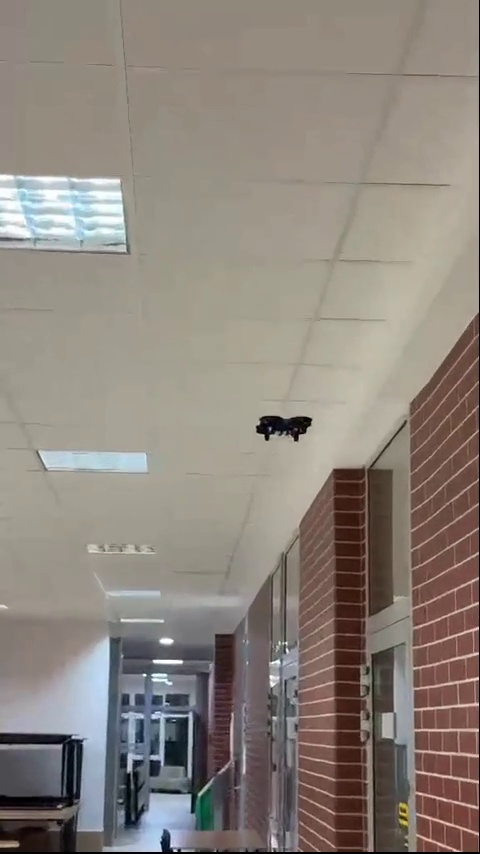drone: (257, 414, 313, 443)
